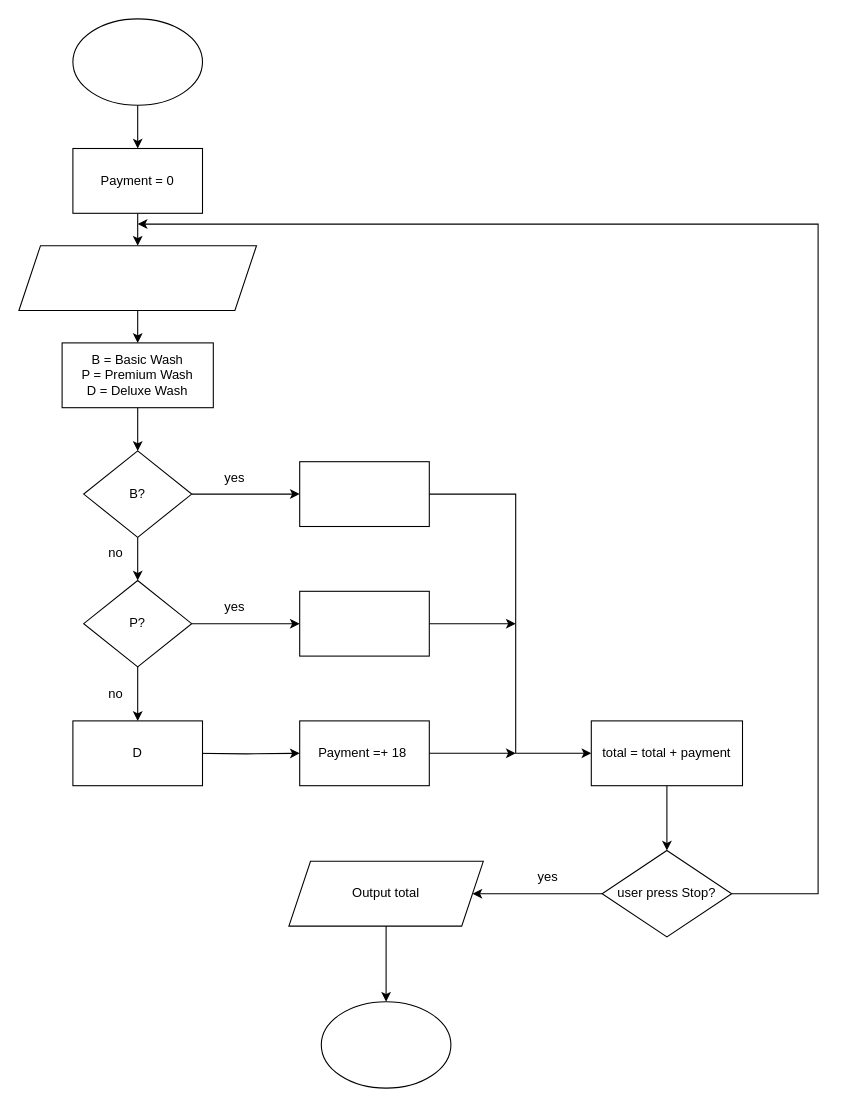
Image size: 846x1107. Some labels were removed from this diagram. The shapes that lost their labels are listed below. From the top down, each one's centre as x and y in pixels, then its label:
pixel 137 61: start
pixel 137 277: Output "select the service type"
pixel 364 493: Payment =+ 8
pixel 364 623: Payment =+ 12
pixel 385 1044: end
